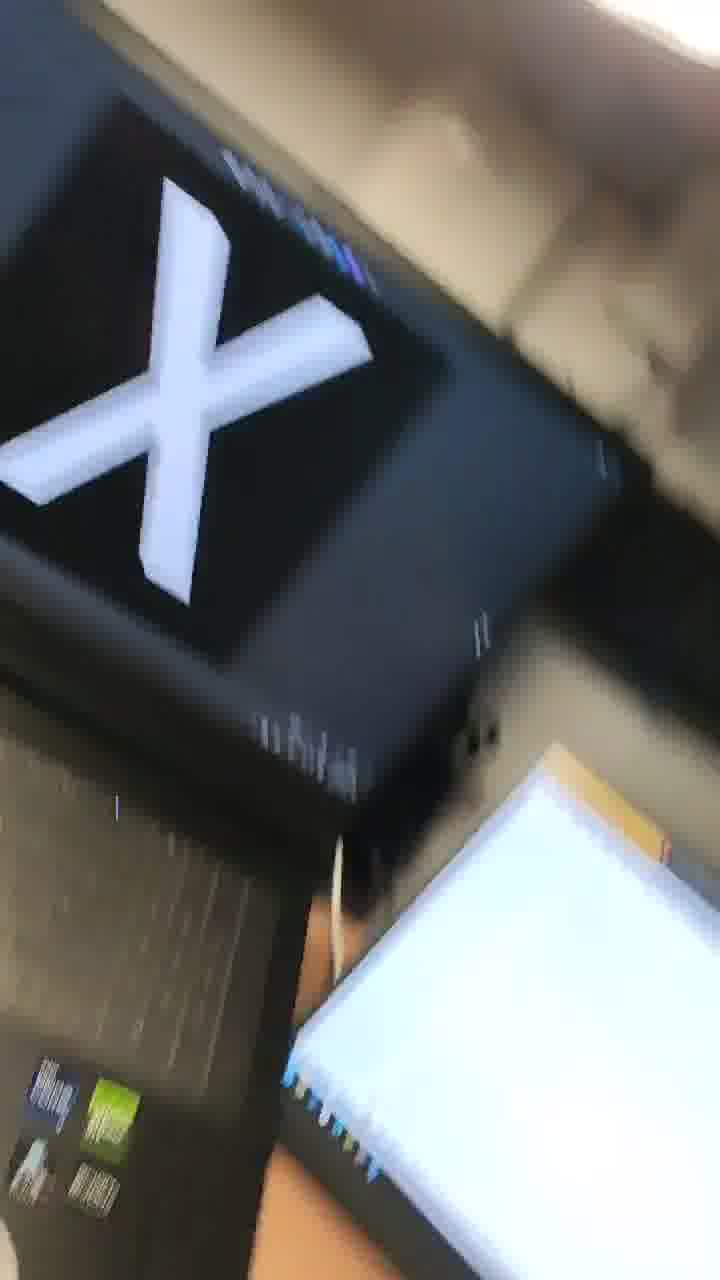X: (5, 125, 384, 652)
